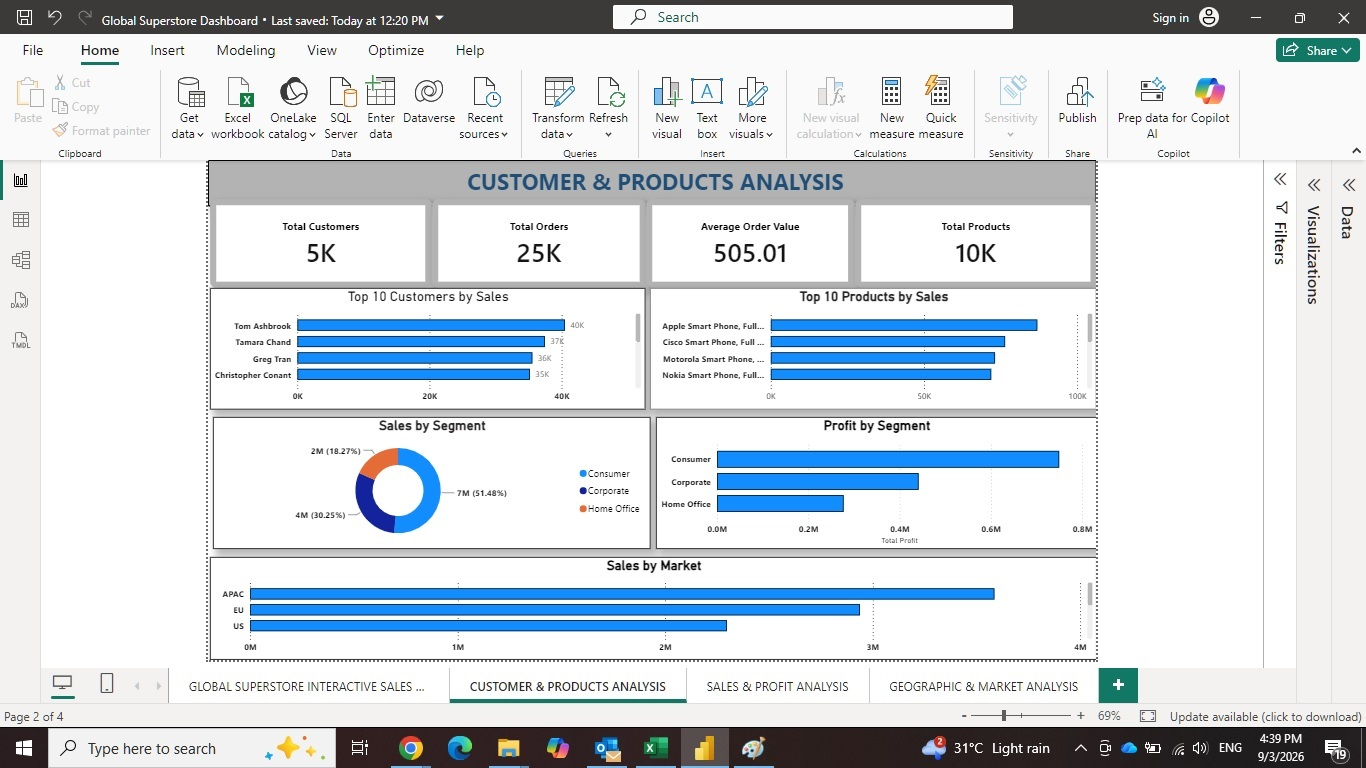

Layout of this report page (visuals, bound fields, positions):
{"tool":"powerbi","page":{"name":" CUSTOMER & PRODUCTS ANALYSIS","canvas":[1280,720],"ordinal":1},"visuals":[{"type":"textbox","box":[10.1,0,1270.1,85],"z":0},{"type":"textbox","box":[0,0,1280,66.7],"z":1000},{"type":"cardVisual","fields":{"Data":["Measures 1.Total Customers"]},"box":[2.9,56.2,319.7,128.2],"z":2000},{"type":"cardVisual","fields":{"Data":["Measures 1.Total Orders"]},"box":[322.6,56.2,308.2,128.2],"z":3000},{"type":"cardVisual","fields":{"Data":["Measures 1.Average Order Value"]},"box":[630.7,56.2,301,128.2],"z":4000},{"type":"cardVisual","fields":{"Data":["Measures 1.Total Products"]},"box":[931.7,56.2,348.5,128.2],"z":5000},{"type":"clusteredBarChart","title":"Top 10 Customers by Sales","fields":{"Y":["Measures 1.Total Sales"],"Category":["Global Superstore_Clean.Customer Name"]},"box":[3.4,184.8,626.6,174.7],"z":6000},{"type":"clusteredBarChart","title":"Top 10 Products by Sales","fields":{"Category":["Global Superstore_Clean.Product Name"],"Y":["Measures 1.Total Sales"]},"box":[636.6,184.8,643.4,174.7],"z":7000},{"type":"donutChart","title":"Sales by Segment","fields":{"Category":["Global Superstore_Clean.Segment"],"Y":["Measures 1.Total Sales"]},"box":[6.7,369.6,629.9,189.8],"z":8000},{"type":"clusteredBarChart","title":"Profit by Segment","fields":{"Category":["Global Superstore_Clean.Segment"],"Y":["Measures 1.Total Profit"]},"box":[645,369.6,635,189.8],"z":9000},{"type":"clusteredBarChart","title":"Sales by Market","fields":{"Category":["Global Superstore_Clean.Market"],"Y":["Measures 1.Total Sales"]},"box":[2.9,571.7,1277.3,148.3],"z":10000}]}

Visuals, with their boxes on the page's 1280x720 design canvas (x1, y1, x2, y2). These are canvas units, not pixel positions in the 1366x768 screenshot, which may show the page scaled, cropped or inside an application window:
textbox: (10,0,1280,85)
textbox: (0,0,1280,67)
cardVisual - Measures 1.Total Customers: (3,56,323,184)
cardVisual - Measures 1.Total Orders: (323,56,631,184)
cardVisual - Measures 1.Average Order Value: (631,56,932,184)
cardVisual - Measures 1.Total Products: (932,56,1280,184)
"Top 10 Customers by Sales" clusteredBarChart: (3,185,630,360)
"Top 10 Products by Sales" clusteredBarChart: (637,185,1280,360)
"Sales by Segment" donutChart: (7,370,637,559)
"Profit by Segment" clusteredBarChart: (645,370,1280,559)
"Sales by Market" clusteredBarChart: (3,572,1280,720)
